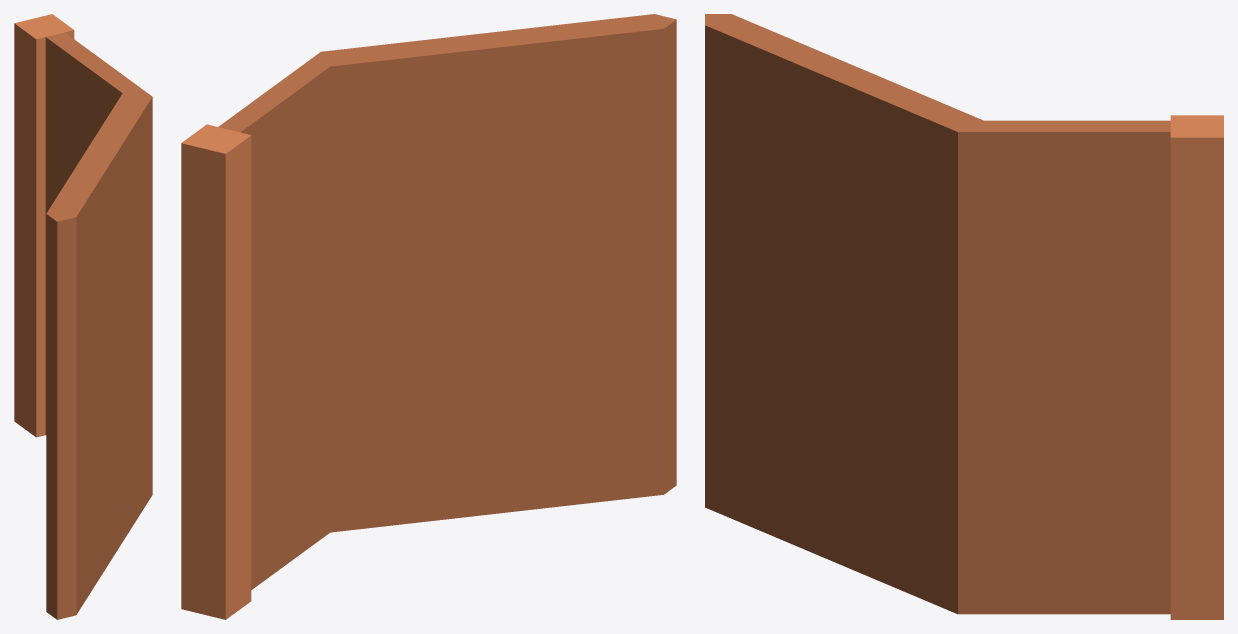
The model's file is wallWoodCornerDiagonalHalf.fbx.
3 renders of one model, left to right at view 1: azimuth 30°, elevation 25°; view 2: azimuth 150°, elevation 25°; view 3: azimuth 270°, elevation 25°, orthographic. The views are drawn at different scales.
Parts seen in each view (by area): view 1: wallWoodCornerDiagonalHalf; view 2: wallWoodCornerDiagonalHalf; view 3: wallWoodCornerDiagonalHalf.
Part boxes in pixels (<box>): wallWoodCornerDiagonalHalf: <box>14,14,152,619</box>; wallWoodCornerDiagonalHalf: <box>181,14,676,619</box>; wallWoodCornerDiagonalHalf: <box>705,14,1223,619</box>.
Size of the model in its own units: 5.5 by 10 by 9.75.
